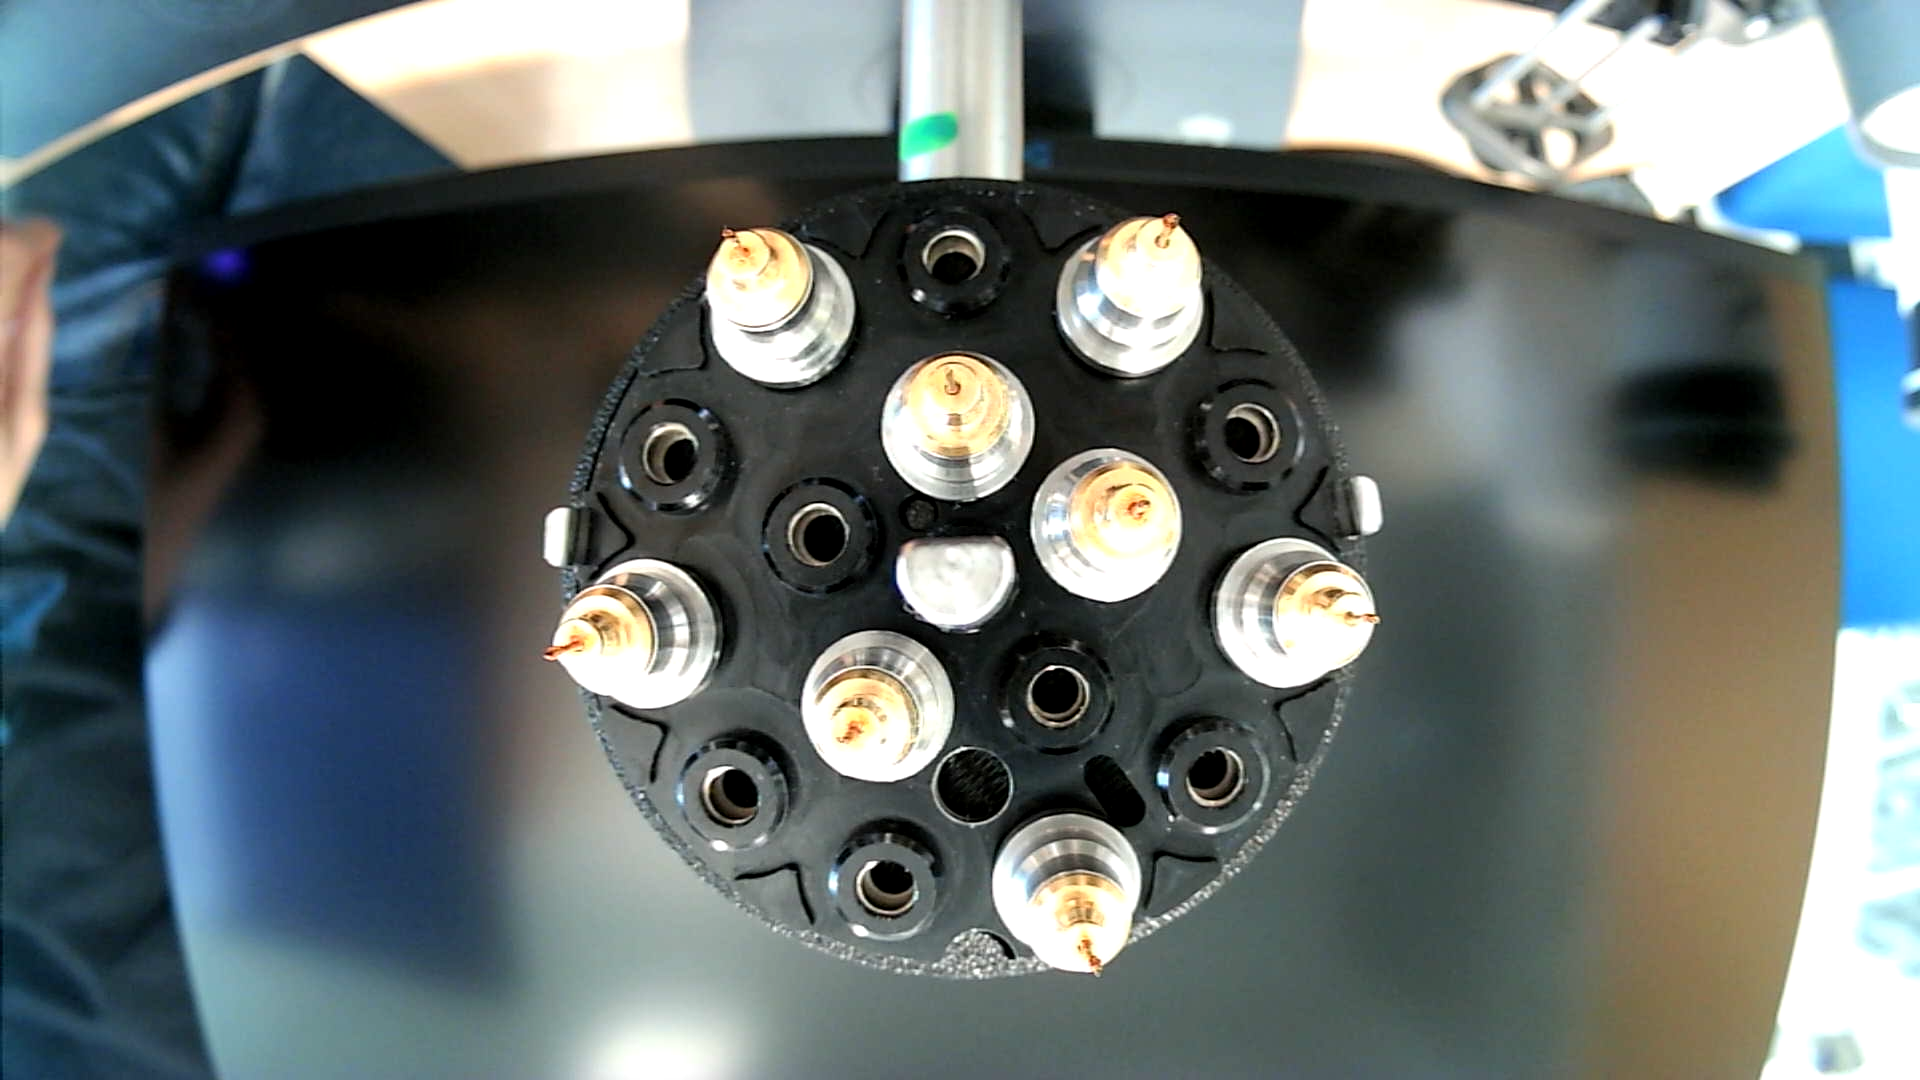empty: (990, 632, 1125, 760), (611, 396, 745, 524), (1145, 709, 1276, 839), (673, 731, 804, 857), (1185, 378, 1320, 497), (758, 469, 884, 595), (825, 816, 939, 945), (895, 202, 1015, 320)
hole: (928, 742, 1015, 831)
pin: (543, 555, 725, 715), (702, 222, 860, 396), (1209, 535, 1381, 692), (992, 804, 1145, 980), (1054, 212, 1205, 384), (878, 349, 1038, 506), (800, 626, 956, 783), (1030, 448, 1184, 607)
rod: (890, 530, 1017, 637)
